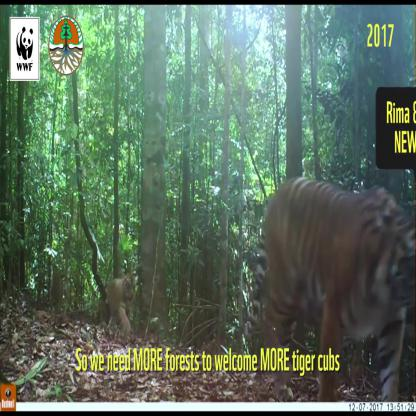Tiger: (238, 151, 415, 375), (100, 259, 164, 330)
